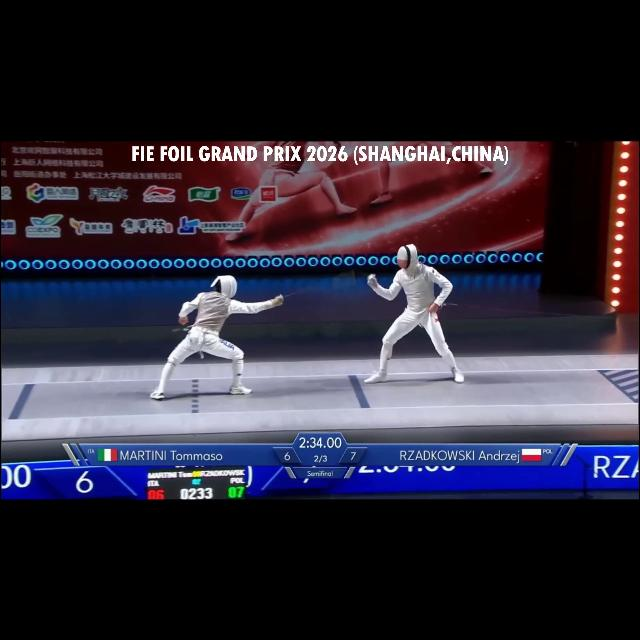blade: (270, 270, 358, 314)
